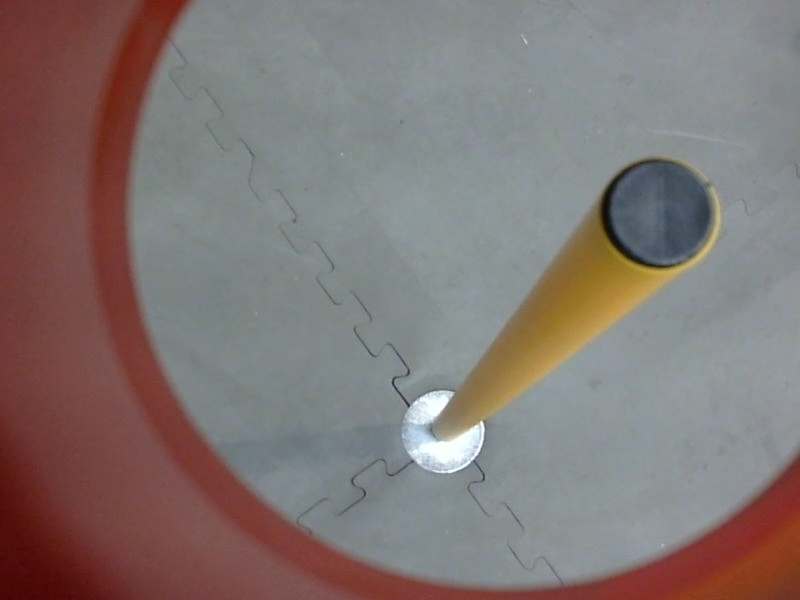tip: (591, 150, 731, 280)
